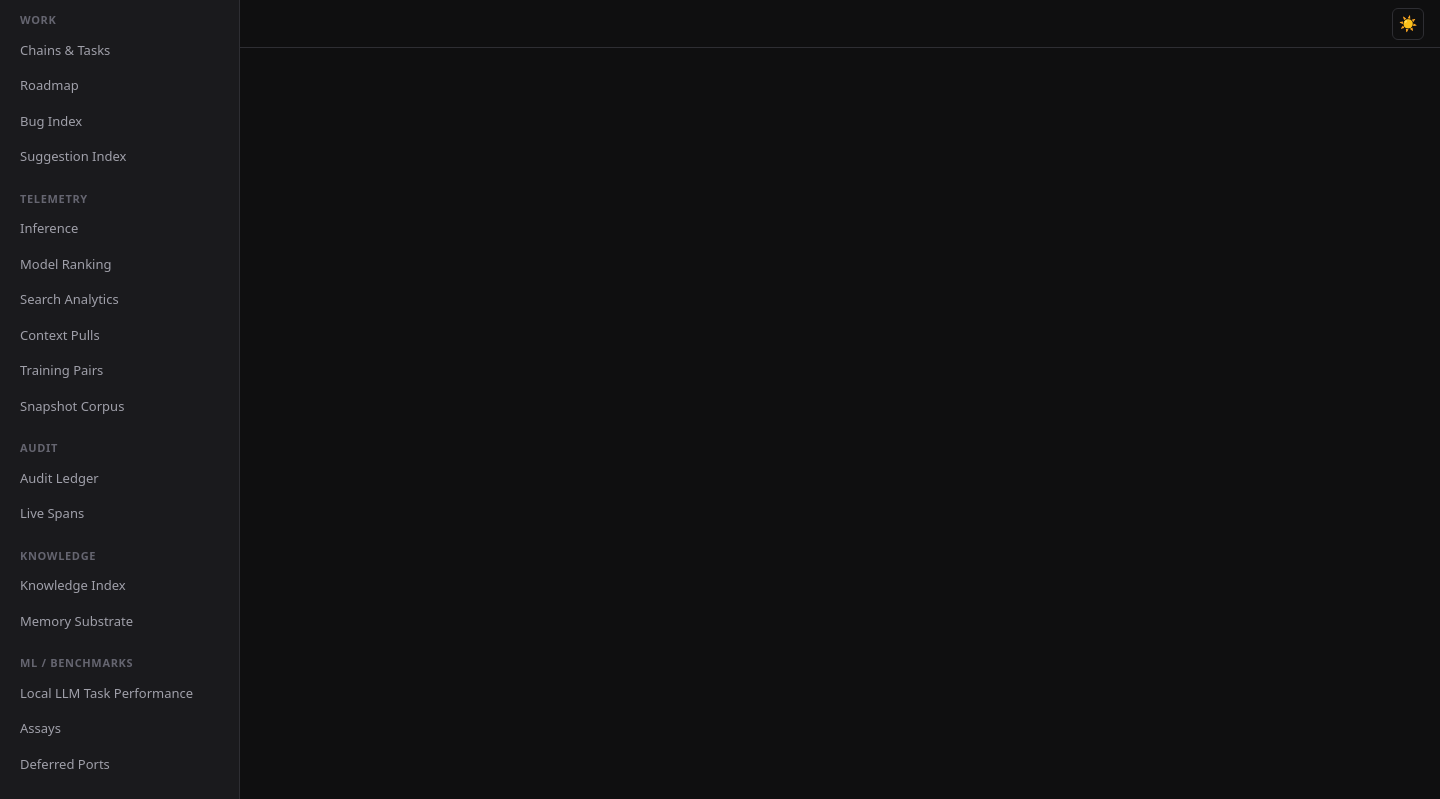
Test case: theme toggle — after one click › shows moon icon after switching to light
Click the button with test id "theme-toggle" at (1408, 24), box [1392,8,1424,40]
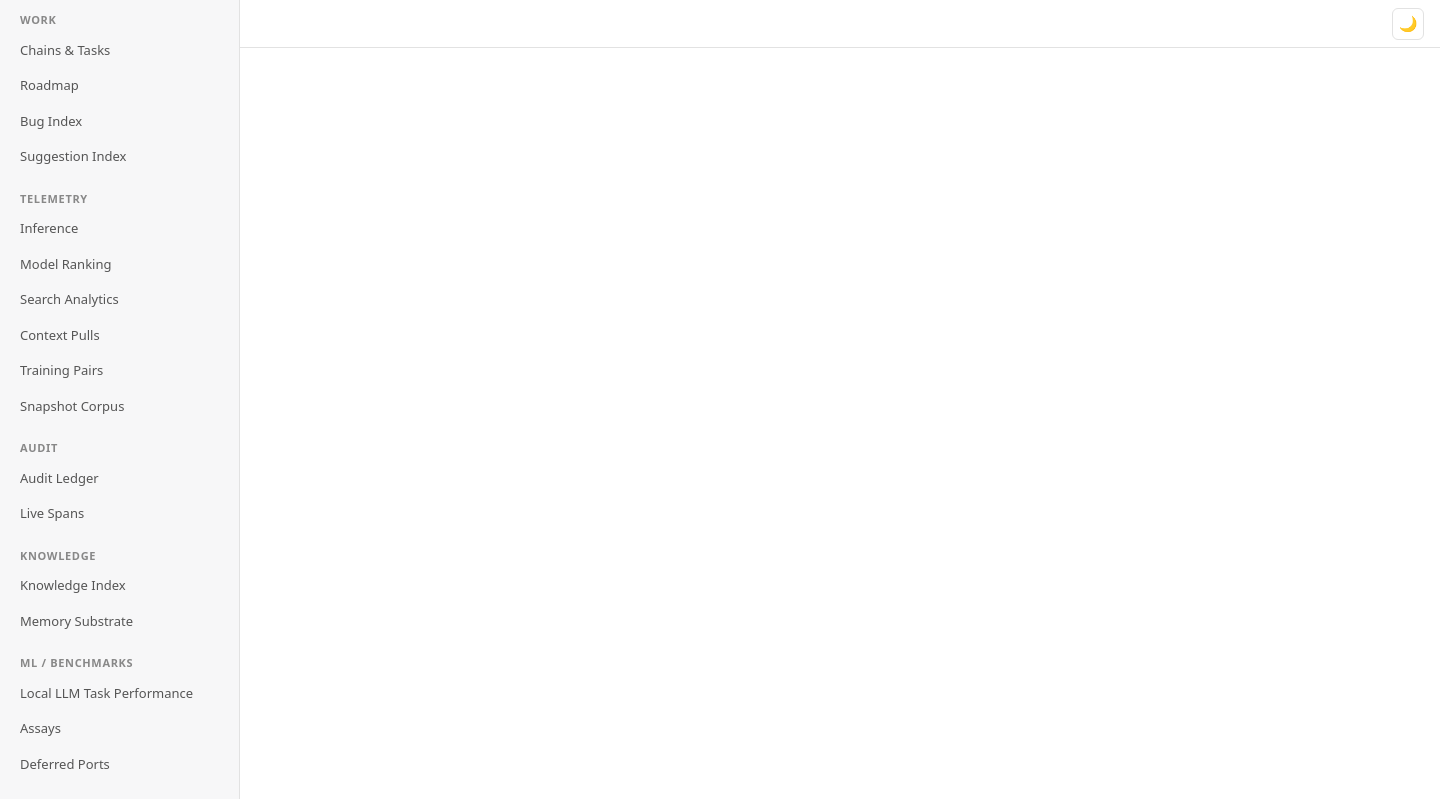
expect the button with test id "theme-toggle" reads "🌙": met, box [1392,8,1424,40]
